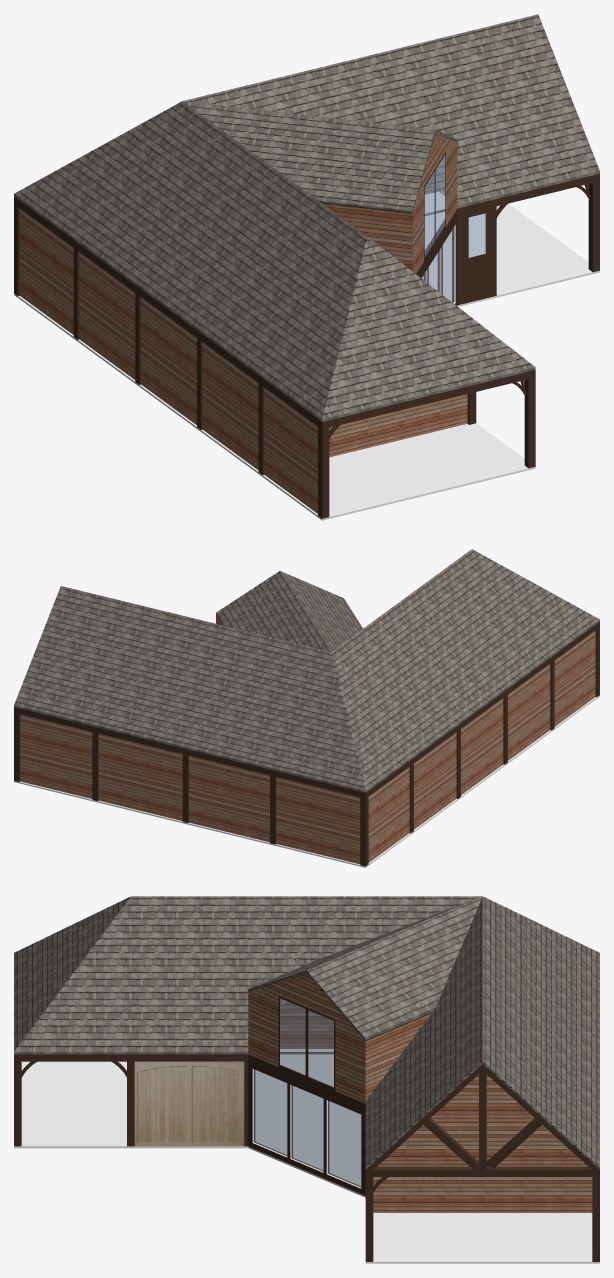
The model's file is Garage + Workshop by Richard A - 4IWDBFbcO9E.glb.
3 renders of one model, top to bottom at view 1: azimuth 30°, elevation 25°; view 2: azimuth 150°, elevation 25°; view 3: azimuth 270°, elevation 25°, orthographic. The views are drawn at different scales.
Parts seen in each view (by area): view 1: Mesh37 Model, Mesh44 Model, Mesh42 Model, Mesh43 Model, Mesh41 Model, Mesh45 Model, Mesh46 Model, Mesh26 G_6m_Purlin2 Model, Mesh1 Oak_Upright1 Model, Mesh7 Oak_Upright7 Model, Mesh2 Oak_Upright2 Model, Mesh24 Oak_Purlin9 Model (+2 smaller); view 2: Mesh37 Model, Mesh40 Model, Mesh38 Model, Mesh39 Model, Mesh42 Model, Mesh43 Model, Mesh44 Model, Mesh41 Model, Mesh45 Model, Mesh27 G_6m_Purlin3 Model, Mesh28 G_6m_Purlin4 Model, Mesh11 Oak_Upright11 Model (+5 smaller); view 3: Mesh37 Model, Mesh47 Model, Mesh25 G_6m_Purlin1 Model, Mesh43 Model, Mesh16 Oak_Purlin1 Model, Mesh17 Oak_Purlin2 Model, Mesh7 Oak_Upright7 Model, Mesh2 Oak_Upright2 Model, Mesh4 Oak_Upright4 Model, Mesh9 Oak_Upright9 Model.
Part boxes in pixels (bbox=[...]): Mesh37 Model: bbox=[14, 14, 599, 520]; Mesh44 Model: bbox=[202, 342, 258, 470]; Mesh42 Model: bbox=[79, 252, 135, 379]; Mesh43 Model: bbox=[141, 297, 196, 424]; Mesh41 Model: bbox=[20, 208, 73, 334]; Mesh45 Model: bbox=[264, 387, 317, 513]; Mesh46 Model: bbox=[329, 394, 467, 457]; Mesh26 G_6m_Purlin2 Model: bbox=[318, 370, 535, 428]; Mesh1 Oak_Upright1 Model: bbox=[318, 426, 329, 518]; Mesh7 Oak_Upright7 Model: bbox=[588, 181, 599, 272]; Mesh2 Oak_Upright2 Model: bbox=[524, 377, 535, 468]; Mesh24 Oak_Purlin9 Model: bbox=[493, 174, 599, 206]; Mesh37 Model: bbox=[14, 549, 599, 867]; Mesh40 Model: bbox=[276, 777, 360, 864]; Mesh38 Model: bbox=[98, 733, 182, 820]; Mesh39 Model: bbox=[189, 755, 269, 842]; Mesh42 Model: bbox=[414, 732, 456, 829]; Mesh43 Model: bbox=[461, 698, 503, 794]; Mesh44 Model: bbox=[508, 664, 550, 760]; Mesh41 Model: bbox=[368, 766, 409, 862]; Mesh45 Model: bbox=[554, 630, 595, 726]; Mesh27 G_6m_Purlin3 Model: bbox=[203, 753, 365, 797]; Mesh28 G_6m_Purlin4 Model: bbox=[41, 714, 203, 758]; Mesh11 Oak_Upright11 Model: bbox=[360, 796, 368, 866]; Mesh37 Model: bbox=[14, 896, 599, 1263]; Mesh47 Model: bbox=[373, 1074, 592, 1212]; Mesh25 G_6m_Purlin1 Model: bbox=[366, 1166, 599, 1176]; Mesh43 Model: bbox=[280, 1001, 333, 1048]; Mesh16 Oak_Purlin1 Model: bbox=[14, 1054, 131, 1061]; Mesh17 Oak_Purlin2 Model: bbox=[131, 1054, 248, 1061]; Mesh7 Oak_Upright7 Model: bbox=[365, 1177, 373, 1261]; Mesh2 Oak_Upright2 Model: bbox=[14, 1061, 21, 1146]; Mesh4 Oak_Upright4 Model: bbox=[127, 1061, 134, 1146]; Mesh9 Oak_Upright9 Model: bbox=[592, 1177, 599, 1261].
Size of the model in its own units: 13000 by 5721 by 15000.
Materials: 7 (5 with a texture image).
